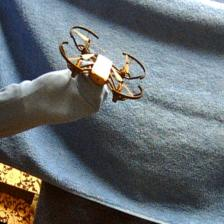drone: (56, 23, 147, 108)
